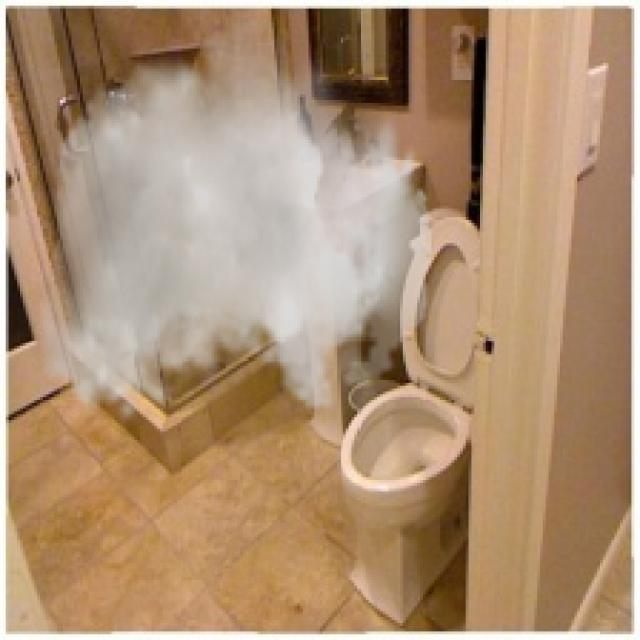Smoke: (37, 3, 434, 423)
